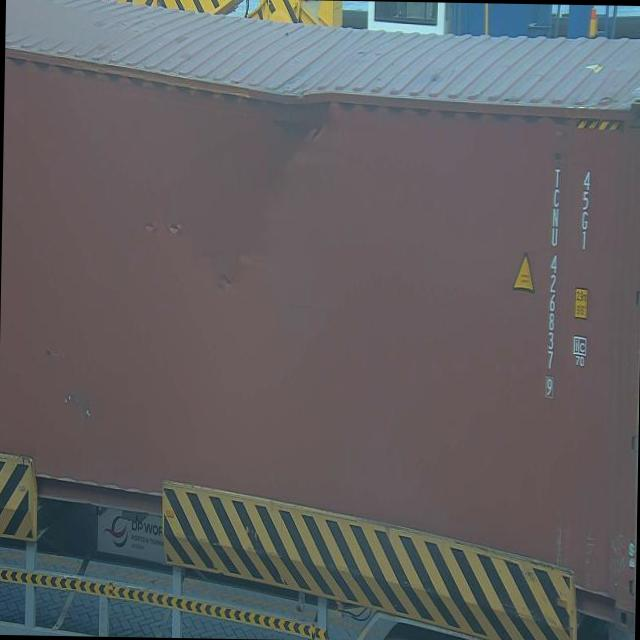Deframe_or_Dent: (232, 46, 358, 204)
